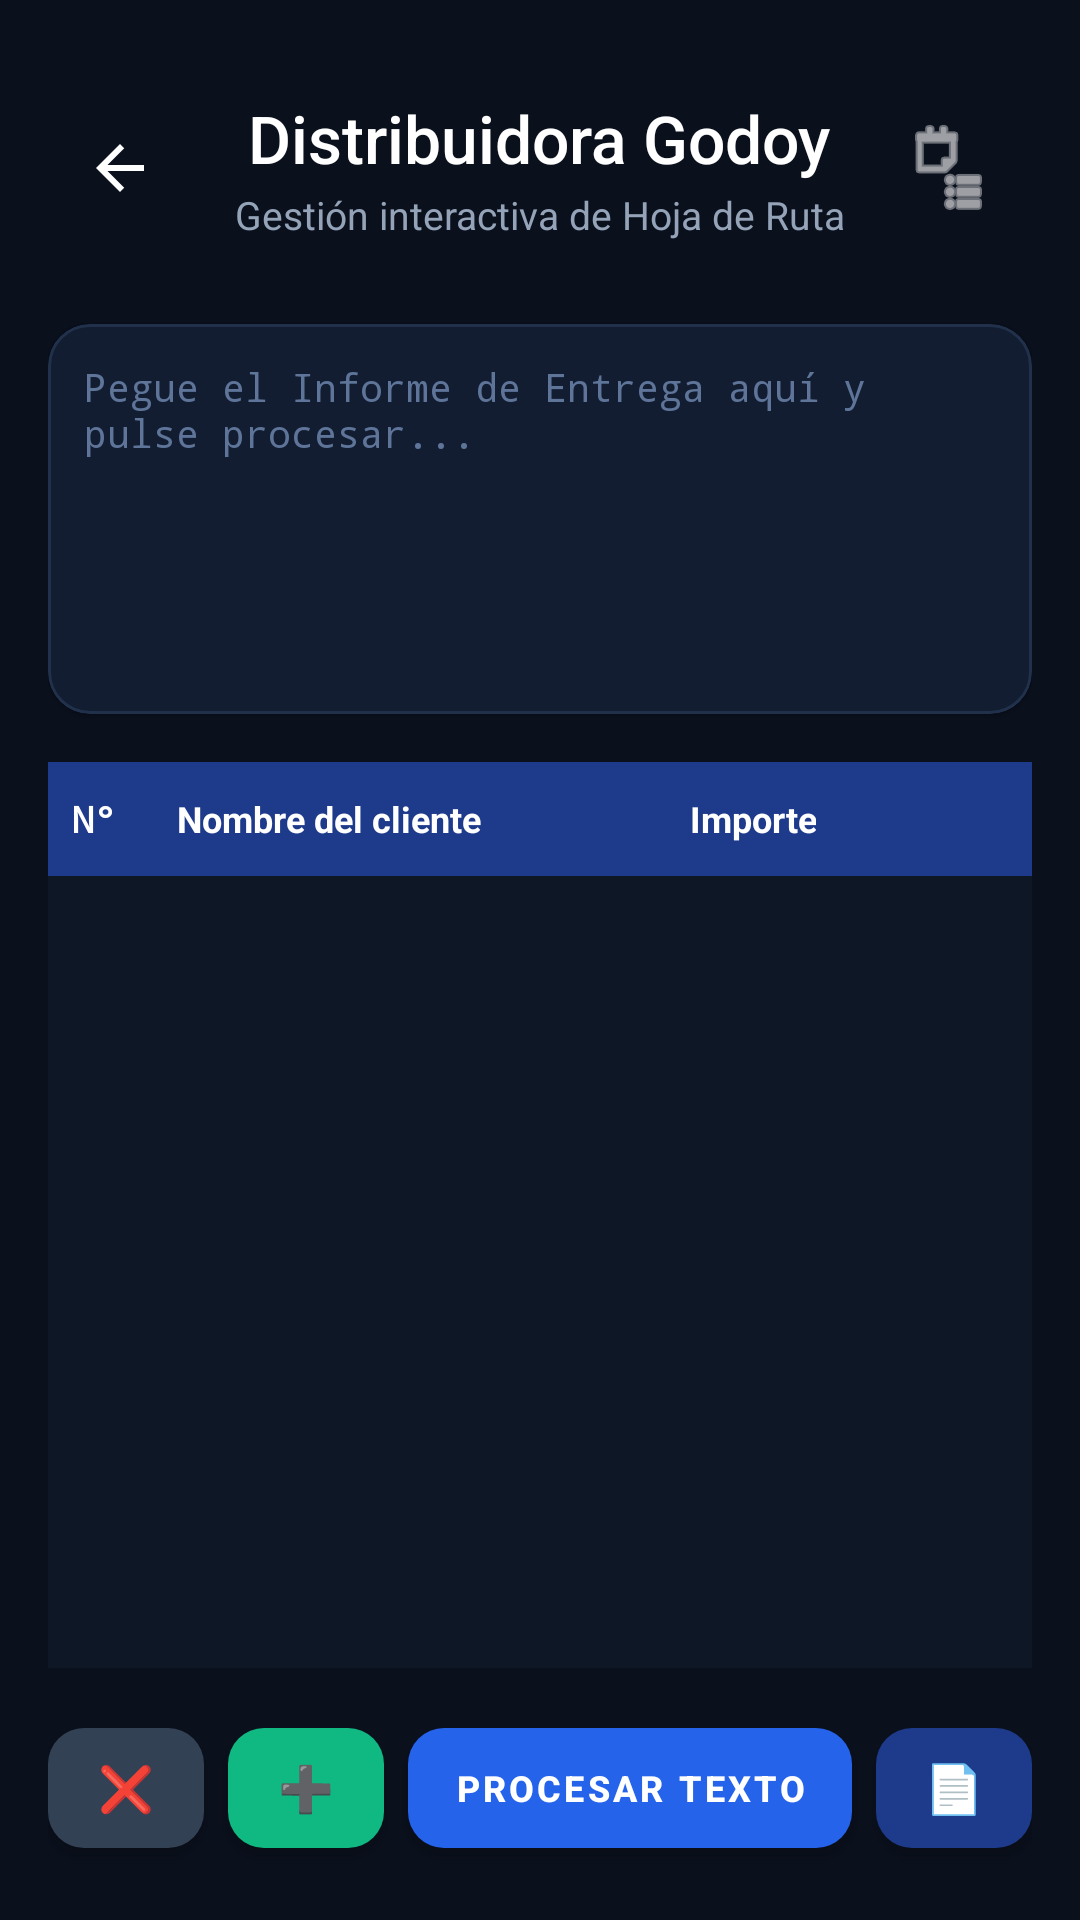

Point at icon controls on the screen. Image size 1080 × 1920, points as (x=x, y=y).
agenda: (x=948, y=167)
Volver atrás: (x=120, y=168)
